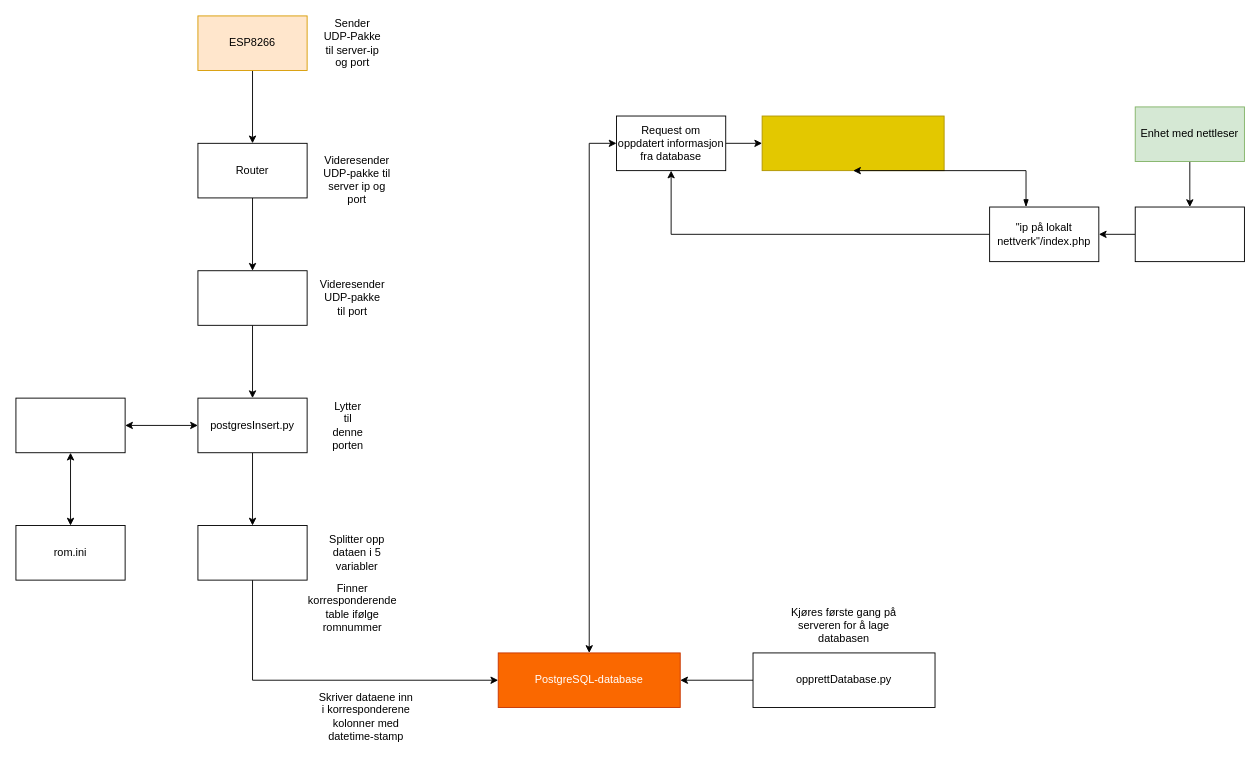
Some shapes in this 1260 by 759 pixel diagram are drawn without their labels. The shapes that lost their labels are listed below. From the top down, each one's box as (x1, y1, x2, y2) in pixels, then its label:
(761, 115, 944, 171): grupperomOversikt.html
(1134, 206, 1244, 262): autrone.no
(197, 270, 307, 325): Server
(15, 397, 125, 453): config.py
(197, 525, 307, 580): insert()
